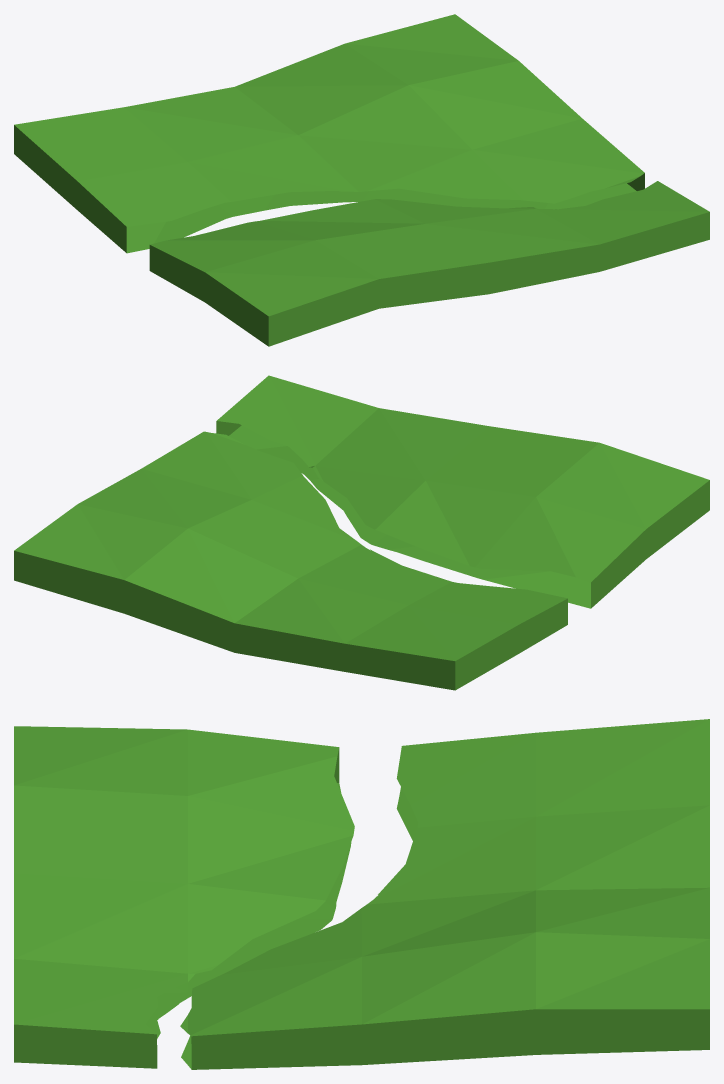
Rendered from floating_island.glb.
The picture shows the model from 3 angles, top to bottom: view 1: azimuth 30°, elevation 25°; view 2: azimuth 150°, elevation 25°; view 3: azimuth 270°, elevation 25°; orthographic projection. The views are drawn at different scales.
Parts seen in each view (by area): view 1: Object_7; view 2: Object_7; view 3: Object_7.
Boxes of the visible parts, x1=… form: Object_7: x1=14, y1=14, x2=709, y2=346; Object_7: x1=14, y1=375, x2=709, y2=690; Object_7: x1=14, y1=719, x2=709, y2=1069.
Bounding box in the file's own units: 2.48 × 0.2809 × 2.48.
